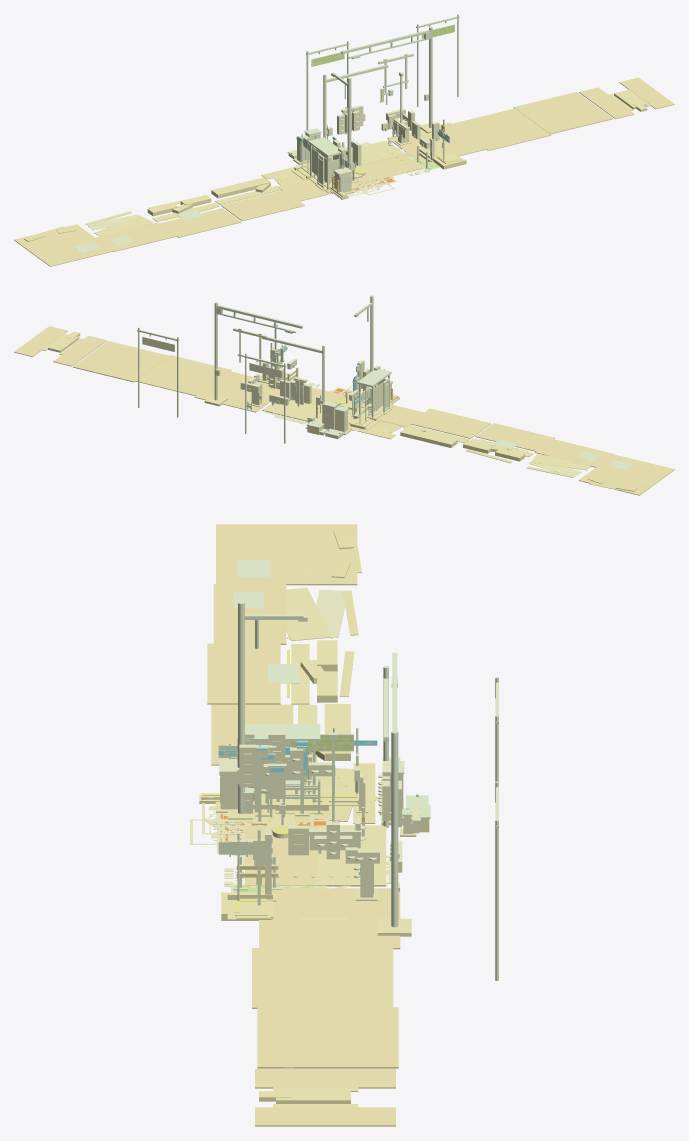
The model's file is scene_signalized_intersection.glb.
The picture shows the model from 3 angles, top to bottom: view 1: azimuth 30°, elevation 25°; view 2: azimuth 150°, elevation 25°; view 3: azimuth 270°, elevation 25°; orthographic projection. The views are drawn at different scales.
Visible parts, largest first — view 1: base (×4), travel_lane (×3), body, entry_lane_left, entry_lane_right, concrete_lane, travel_lane_main, barrier_base, shoefly_lane, pole; view 2: base (×4), travel_lane (×3), concrete_lane, entry_lane_left, entry_lane_right, travel_lane_main, barrier_base, shoefly_lane, mast, roof, truss_top; view 3: base (×4), travel_lane (×3), entry_lane_right, entry_lane_left, concrete_lane, body, shoefly_lane, mast, asphalt_lane, pole, roof, splitter_island (+3 smaller).
Boxes of the visible parts, x1,y1,x2,y2 form: base (×4): (14,92,612,266); travel_lane (×3): (95,190,304,251); body: (355,154,423,183); entry_lane_left: (579,87,634,119); entry_lane_right: (619,77,674,109); concrete_lane: (331,141,405,166); travel_lane_main: (278,179,360,201); barrier_base: (211,177,270,198); shoefly_lane: (94,215,153,236); pole: (347,77,351,169); base (×4): (73,341,674,495); travel_lane (×3): (411,408,613,467); concrete_lane: (262,400,322,422); entry_lane_left: (53,335,106,366); entry_lane_right: (14,326,67,356); travel_lane_main: (348,400,425,426); barrier_base: (400,427,457,447); shoefly_lane: (530,454,590,470); mast: (214,302,217,400); roof: (357,369,391,387); truss_top: (216,305,302,328); base (×4): (216,524,400,1068); travel_lane (×3): (207,584,293,765); entry_lane_right: (255,1107,395,1126); entry_lane_left: (255,1069,395,1088); concrete_lane: (317,825,386,886); body: (245,825,385,886); shoefly_lane: (286,587,331,641); mast: (391,730,398,927); asphalt_lane: (245,825,316,885); pole: (238,601,244,813); roof: (245,724,320,741); splitter_island: (276,1088,350,1103).
Bounding box in the file's own units: 40.29 × 6.64 × 8.76.
